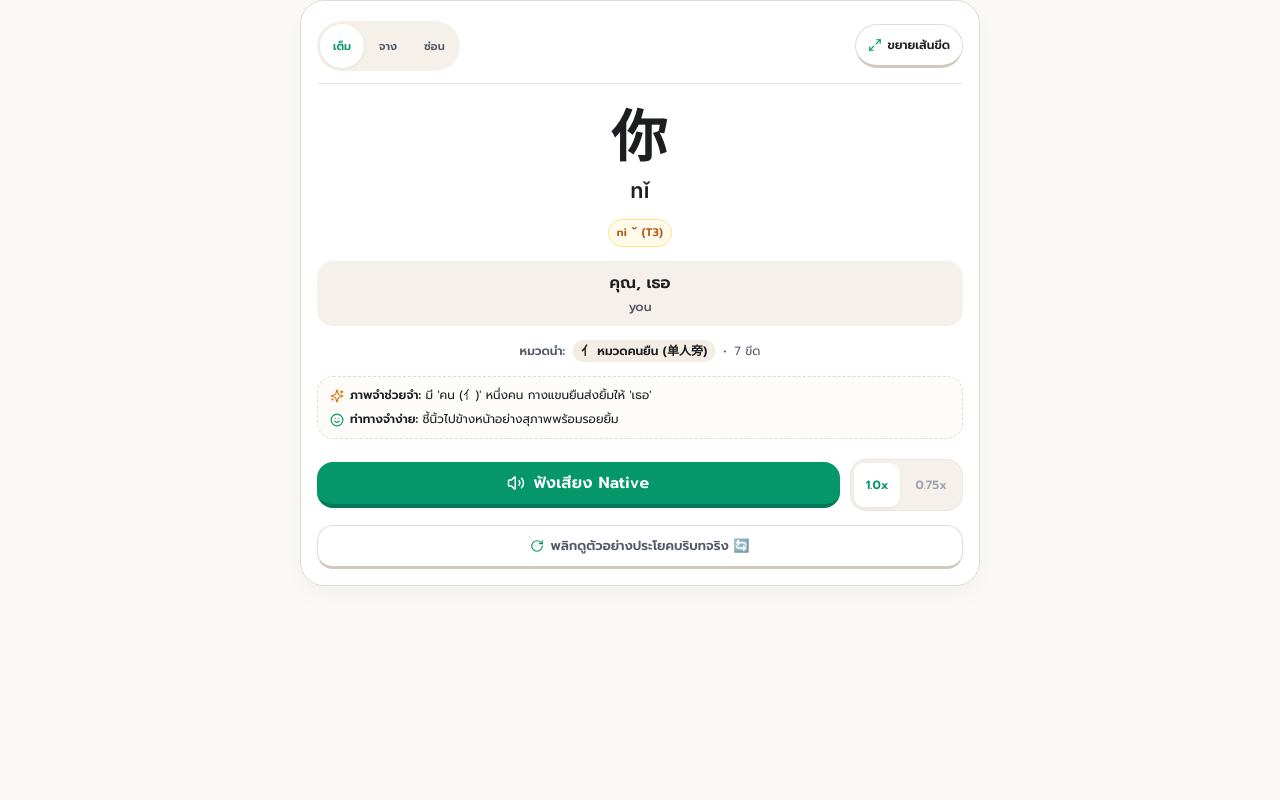
Test case: VocabCard Component (Phase 2 Slice 2.2) › Stroke Inspector Modal (แว่นขยายเส้นขีด) › opens modal on clicking "ขยายเส้นขีด" and closes on clicking close button
The width and height of the screenshot is (1280, 800).
Step 1. Click the button with aria-label "ขยายดูเส้นขีดตัวอักษร" → [909, 46], box [855,24,963,68]
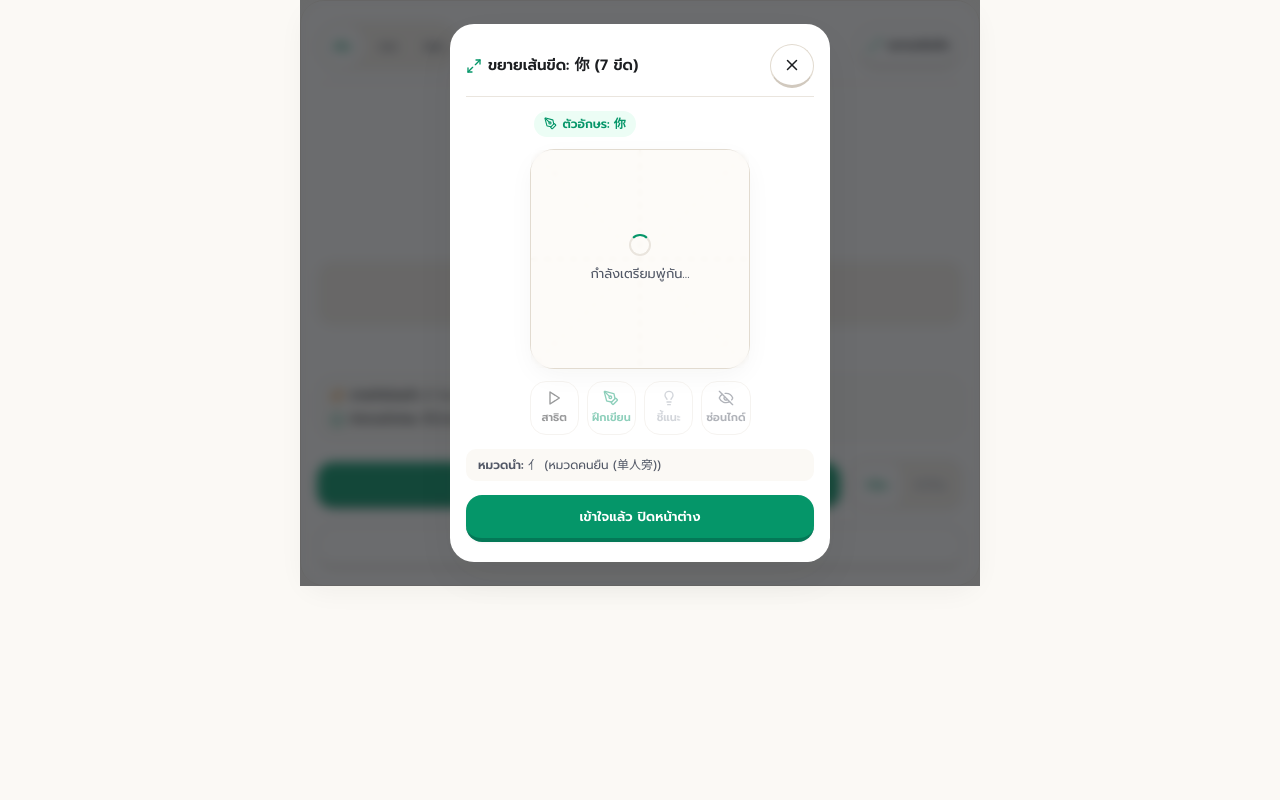
Now the dialog with class "stroke-modal-overlay" shows "ขยายเส้นขีด: 你 (7 ขีด)", box [300,0,980,586]
Close modal via close button
Step 2. Click the button named "ปิดหน้าต่างขยายเส้นขีด" → [792, 66], box [770,44,814,88]
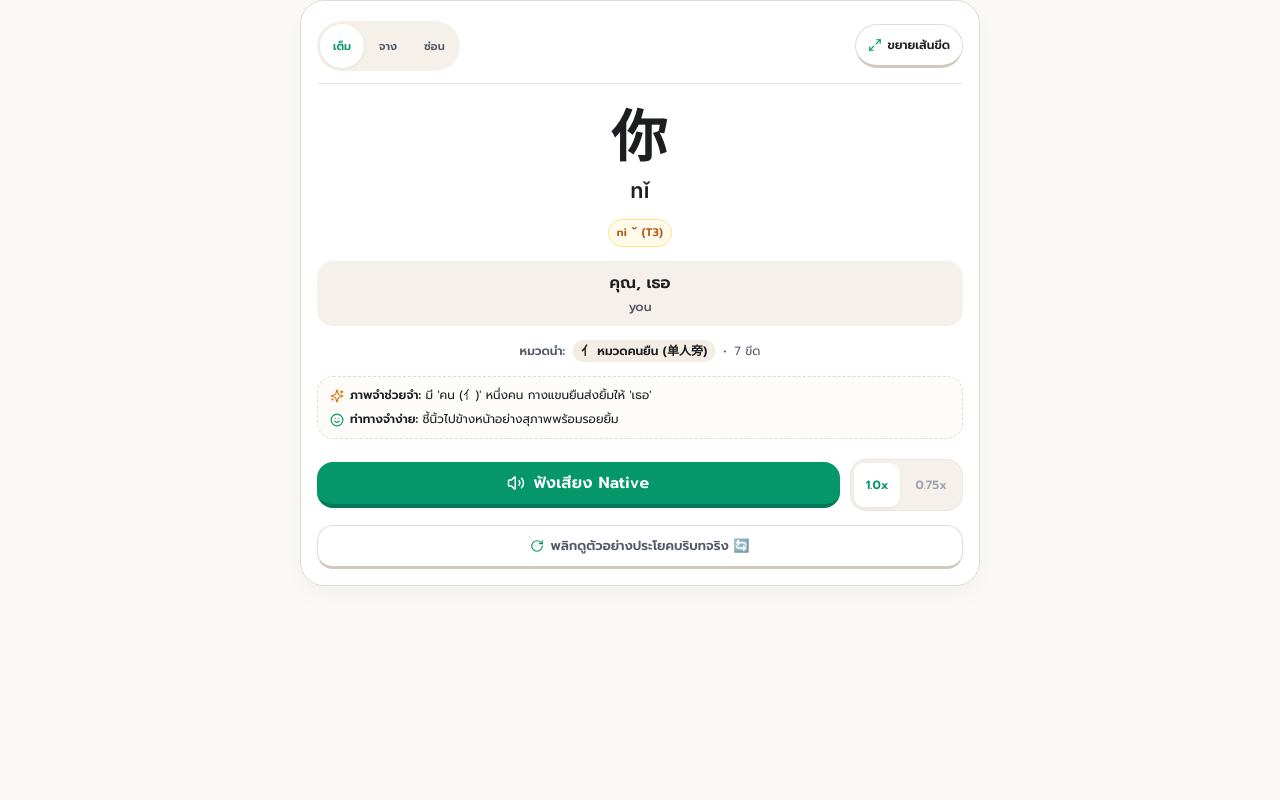
Now the dialog with class "stroke-modal-overlay" is gone
